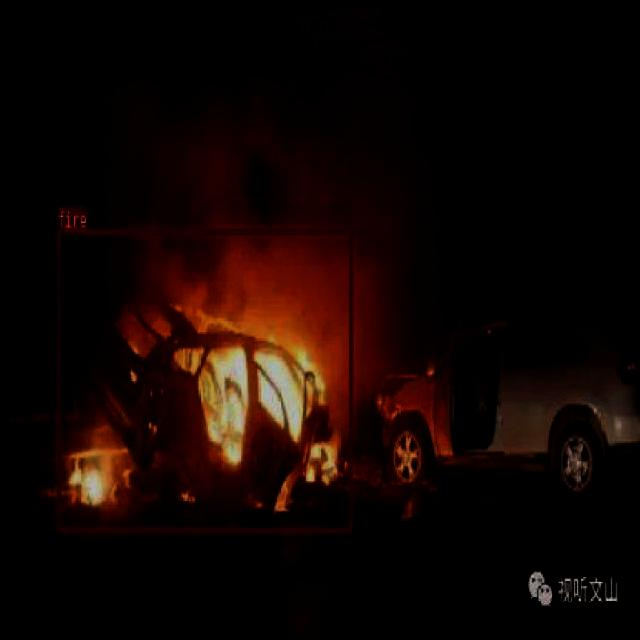fire: (56, 228, 352, 532)
